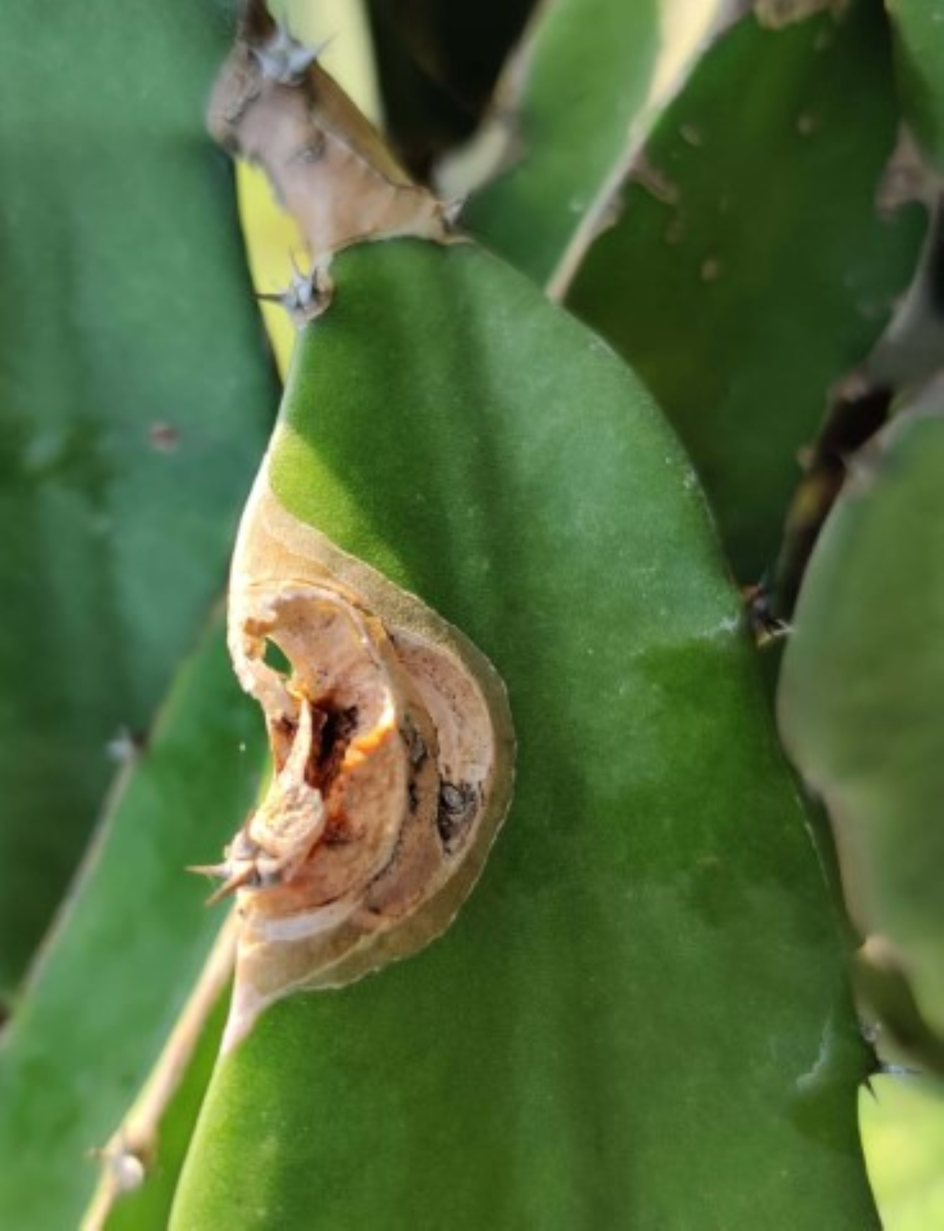stemcanker: (223, 454, 516, 1052)
